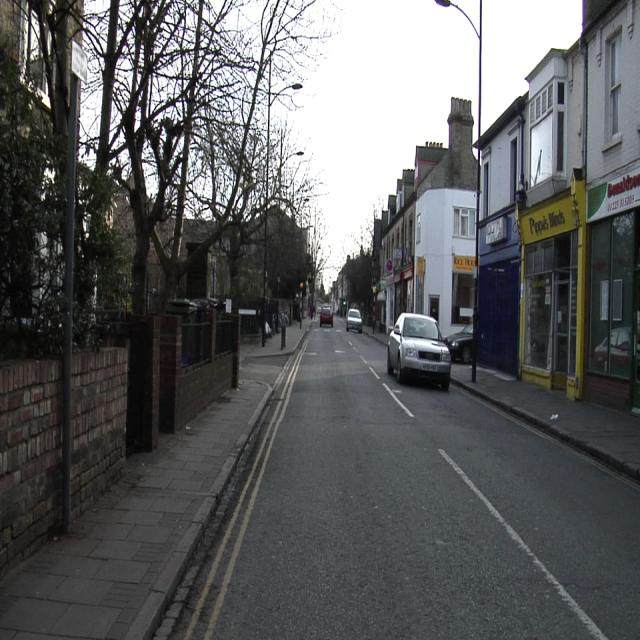Building: (475, 0, 638, 405), (370, 98, 476, 333)
Car: (388, 313, 450, 387), (347, 309, 362, 331), (319, 306, 333, 327)
Road: (198, 324, 639, 639)
Tree: (1, 0, 329, 351)
